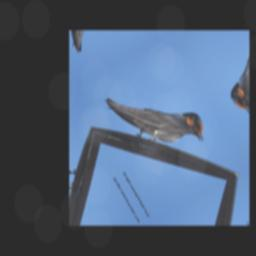Swallow: (104, 62, 211, 173)
